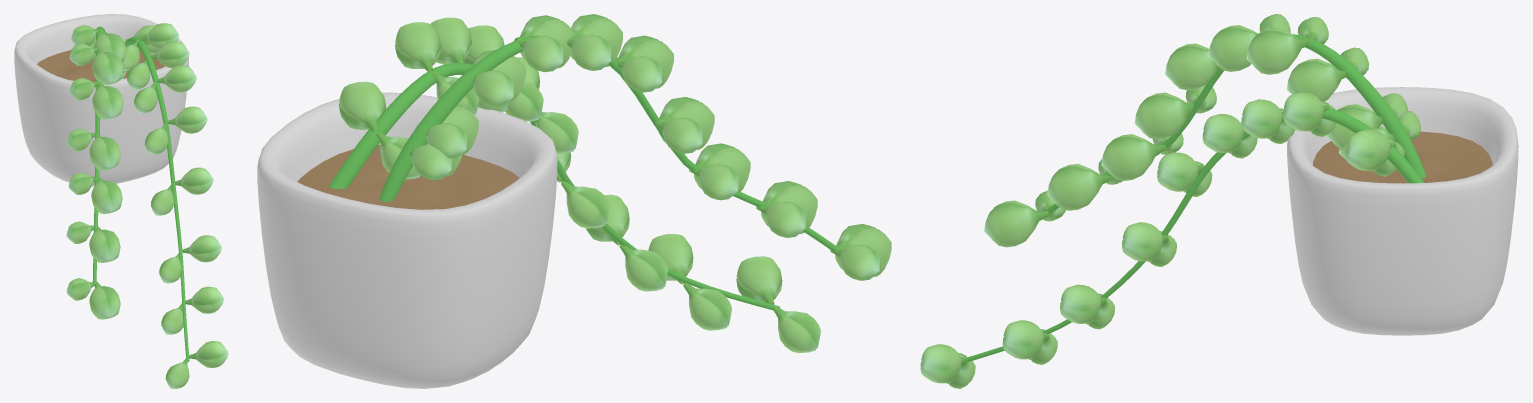
The model's file is plant2.gltf.
The picture shows the model from 3 angles, left to right: view 1: azimuth 30°, elevation 25°; view 2: azimuth 150°, elevation 25°; view 3: azimuth 270°, elevation 25°; orthographic projection. The views are drawn at different scales.
Visible parts, largest first — view 1: Pot010, grenn necles2, Cube.039_0.002, Cube.039_0.003, Cube.039, Cube.039_0.006, Cube.039_0.007, Cube.039_0.005, Cube.012_0.003, Cube.012_0.005, Cube.012_0.002, Cube.012_0.006 (+21 smaller); view 2: Pot010, grenn necles1, grenn necles2, Cube.012_0.004, Cube.012_0.002, Cube.012_0.009, Cube.021, Cube.021_0.007, Cube.021_0.006, Cube.021_0.002, Cube.012_0.001, Cube.039_0.002 (+25 smaller); view 3: Pot010, grenn necles1, grenn necles2, Cube.039_0.006, Cube.039_0.002, Cube.039_0.007, Cube.039_0.001, Cube.039, Cube.039_0.003, Cube.039_0.004, Cube.039_0.005, Cube.012_0.002 (+11 smaller).
Boxes of the visible parts, box(x1,y1,x2,y2) form: Pot010: box(14, 14, 188, 186); grenn necles2: box(125, 37, 189, 361); Cube.039_0.002: box(89, 281, 120, 319); Cube.039_0.003: box(92, 81, 123, 119); Cube.039: box(89, 133, 120, 170); Cube.039_0.006: box(91, 176, 122, 213); Cube.039_0.007: box(89, 226, 120, 262); Cube.039_0.005: box(92, 49, 123, 84); Cube.012_0.003: box(167, 106, 207, 133); Cube.012_0.005: box(156, 65, 196, 92); Cube.012_0.002: box(188, 341, 228, 367); Cube.012_0.006: box(182, 235, 221, 262); Pot010: box(257, 92, 557, 388); grenn necles1: box(379, 35, 840, 252); grenn necles2: box(328, 63, 779, 310); Cube.012_0.004: box(395, 22, 440, 71); Cube.012_0.002: box(736, 256, 782, 304); Cube.012_0.009: box(340, 83, 386, 132); Cube.021: box(561, 181, 609, 228); Cube.021_0.007: box(683, 283, 731, 330); Cube.021_0.006: box(619, 245, 668, 291); Cube.021_0.002: box(773, 305, 820, 352); Cube.012_0.001: box(430, 17, 471, 64); Cube.039_0.002: box(830, 224, 891, 276); Pot010: box(1287, 87, 1518, 335); grenn necles1: box(1045, 34, 1426, 214); grenn necles2: box(963, 108, 1424, 363); Cube.039_0.006: box(1101, 134, 1167, 180); Cube.039_0.002: box(984, 200, 1050, 247); Cube.039_0.007: box(1047, 164, 1113, 210); Cube.039_0.001: box(1246, 28, 1311, 74); Cube.039: box(1134, 92, 1200, 139); Cube.039_0.003: box(1165, 43, 1218, 90); Cube.039_0.004: box(1286, 58, 1346, 101); Cube.039_0.005: box(1208, 25, 1257, 71); Cube.012_0.002: box(920, 344, 966, 383).
Size of the model in its own units: 0.9097 by 1.02 by 1.42.
Materials: 5 (2 with a texture image).
